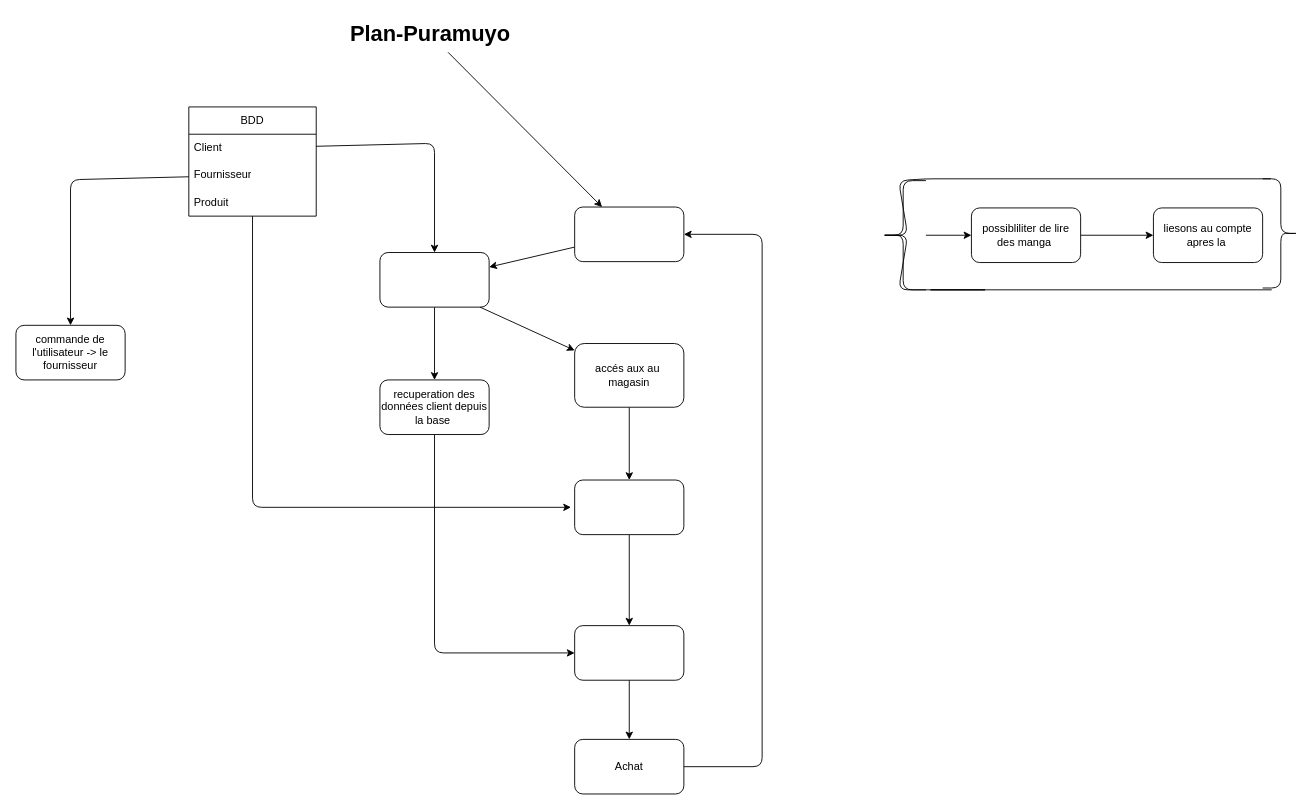
The diagram is 1315 pixels wide and 810 high, and some of its shapes have lost their labels. The centre of each missing label's shape, as x and y in pixels:
"acces aux produits" goes at [629,507].
"Enregistrement des preferences de l'utilisateur" goes at [629,652].
"index.html (page d'acceuil)" goes at [629,234].
"page de connexion client/utilisateur" goes at [434,279].
